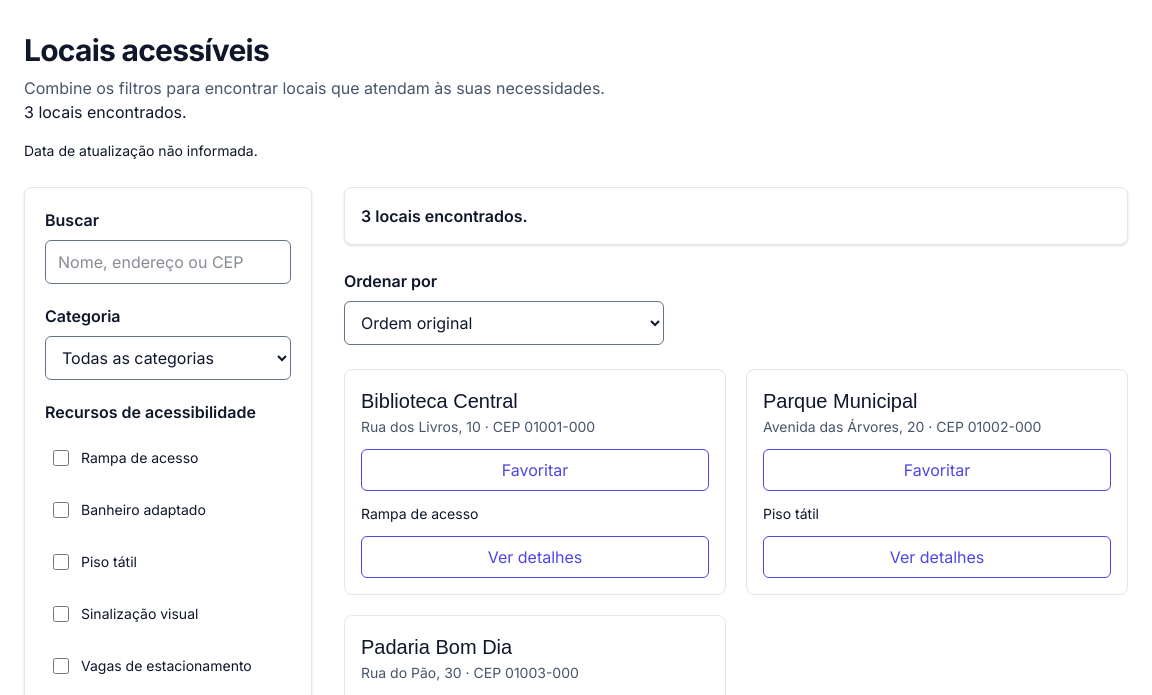
Scenario: Locais — histórico de buscas › navega pelas sugestões com as setas e seleciona com Enter
This screenshot has width=1152, height=695.
Click the dropdown labelled "Buscar".
click(168, 262)  # box [45,240,291,284]
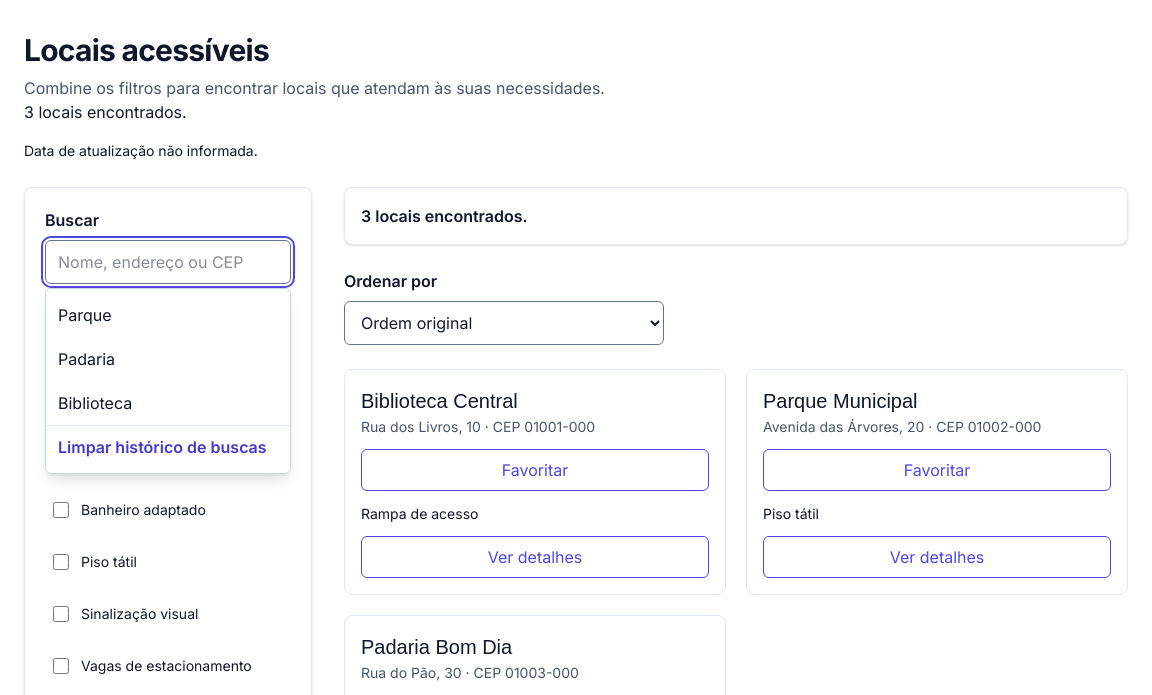
Press Arrowdown
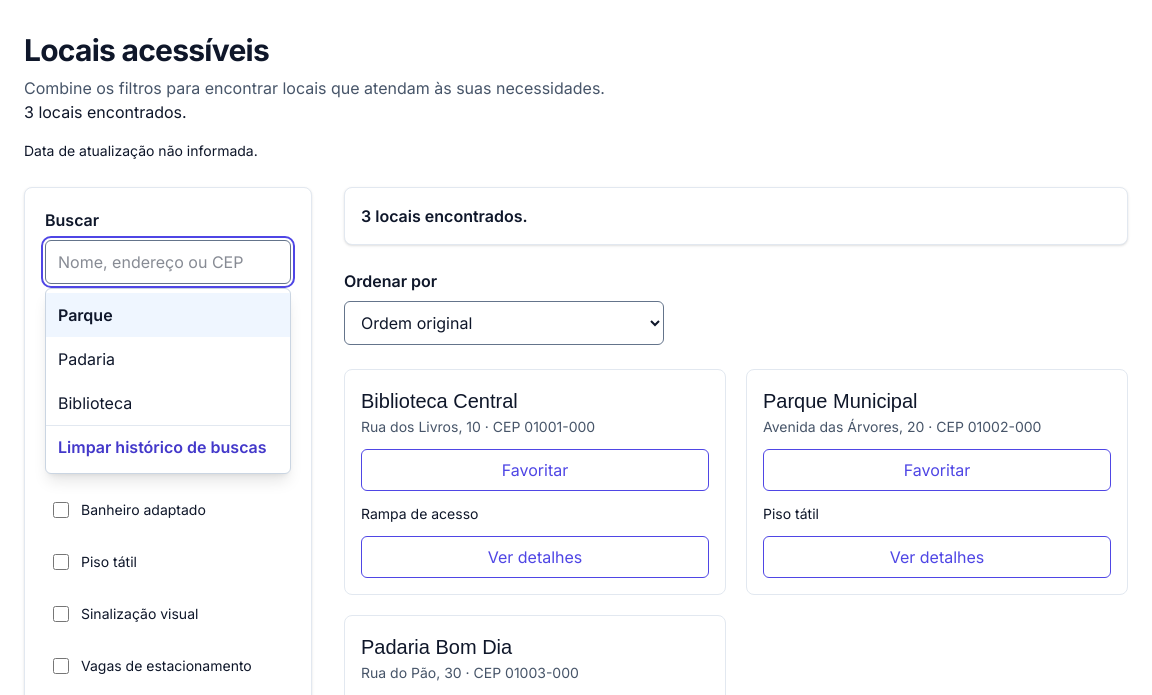
Expected: the option "Parque" is selected, [46,293,290,337]
Press Arrowdown Arrowdown
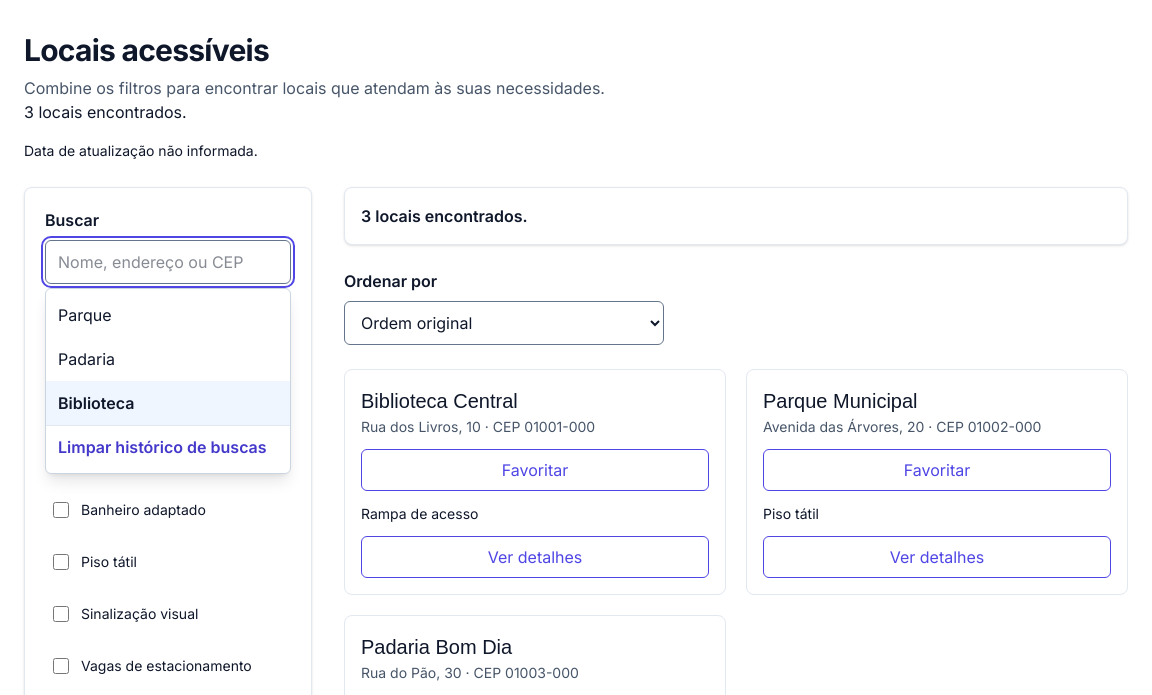
Expected: the option "Biblioteca" is selected, [46,381,290,425]
Press Arrowdown
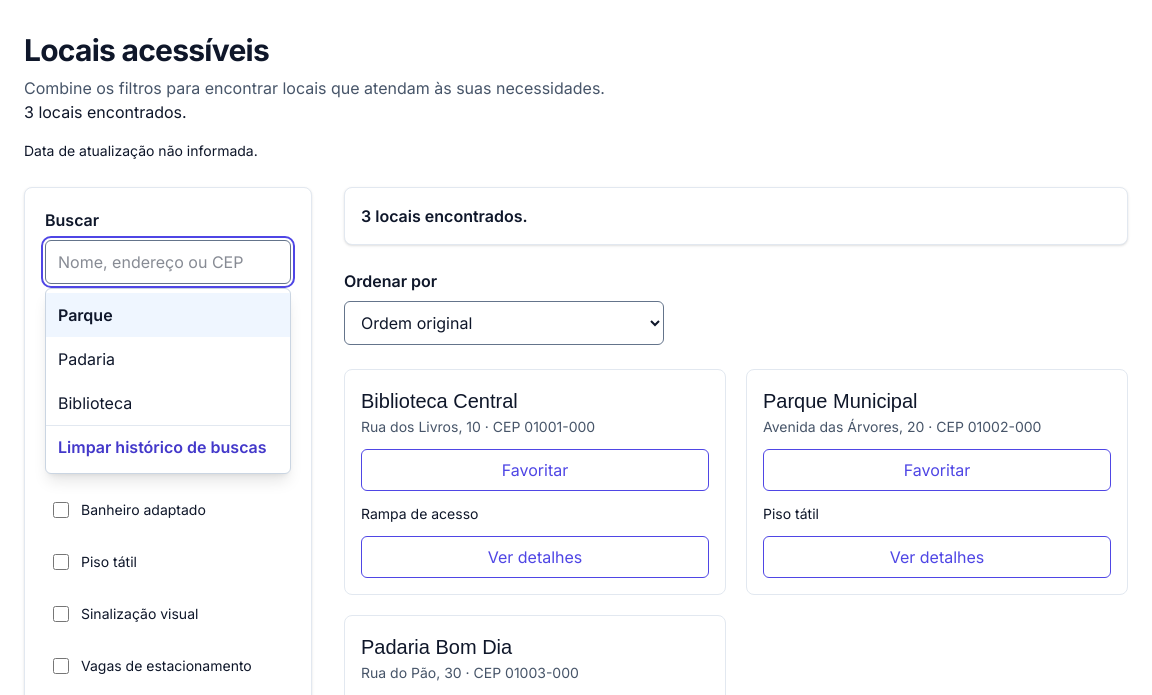
Expected: the option "Parque" is selected, [46,293,290,337]
Press Arrowup
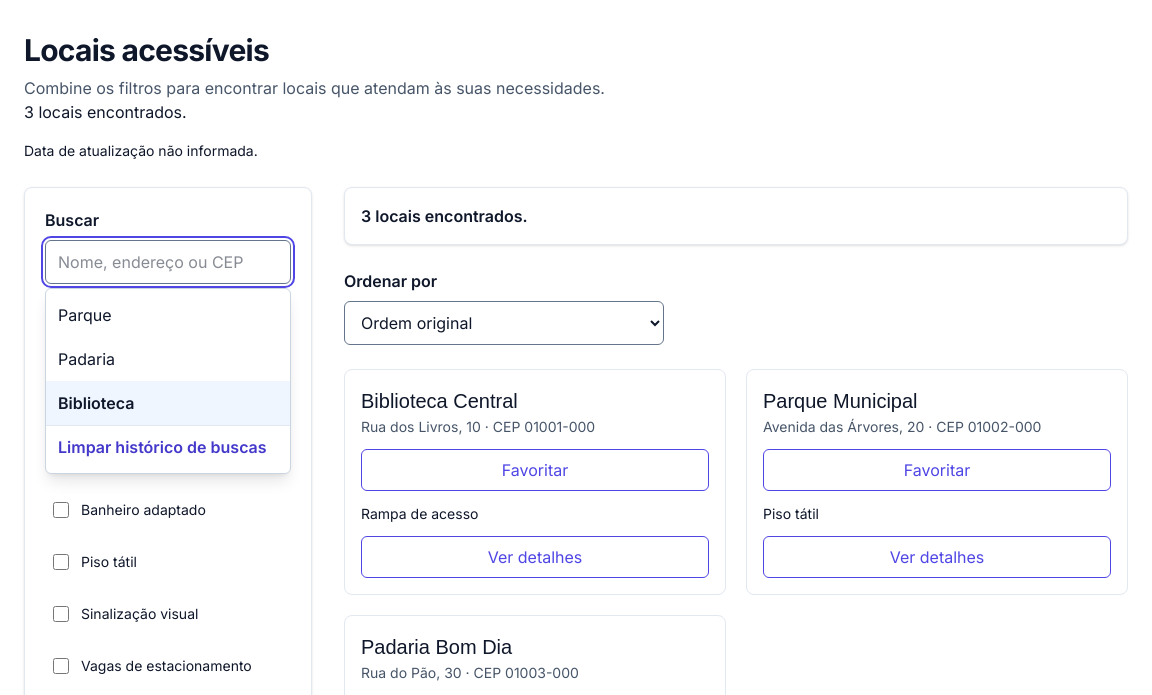
Expected: the option "Biblioteca" is selected, [46,381,290,425]
Press Enter
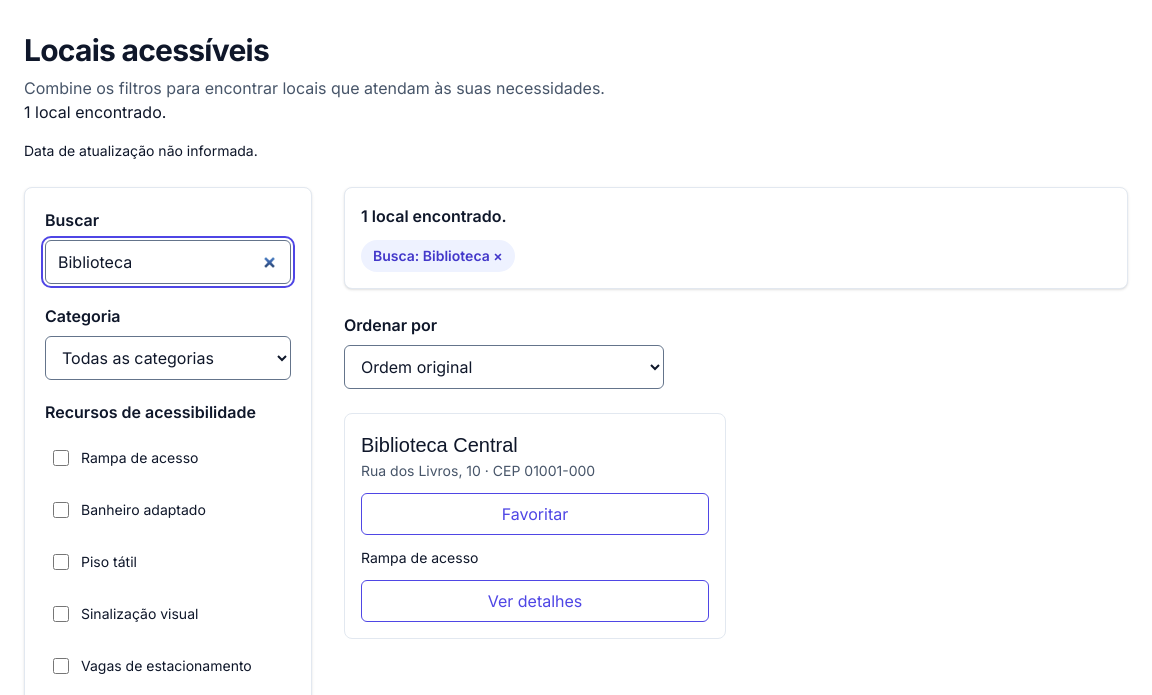
Expected: the dropdown labelled "Buscar" holds "Biblioteca", [45,240,291,284]
Expected: the dropdown labelled "Buscar" is collapsed, [45,240,291,284]
